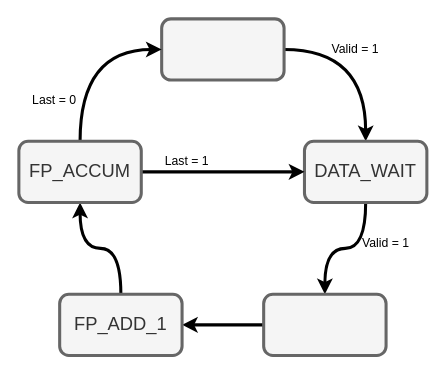
Image size: 446x374. Some labels were removed from this diagram. Each missing label, with the centre of its shape:
FP_ADD_0: the point at 324,324
IDLE: the point at 222,49
